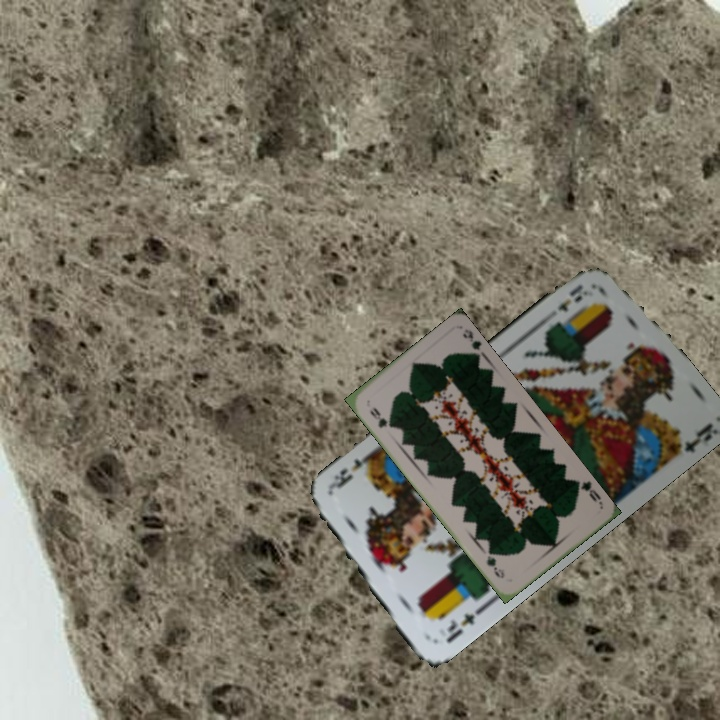EK: (442, 604, 486, 646), (553, 280, 594, 314)
G9: (571, 477, 605, 507), (366, 403, 394, 430)
